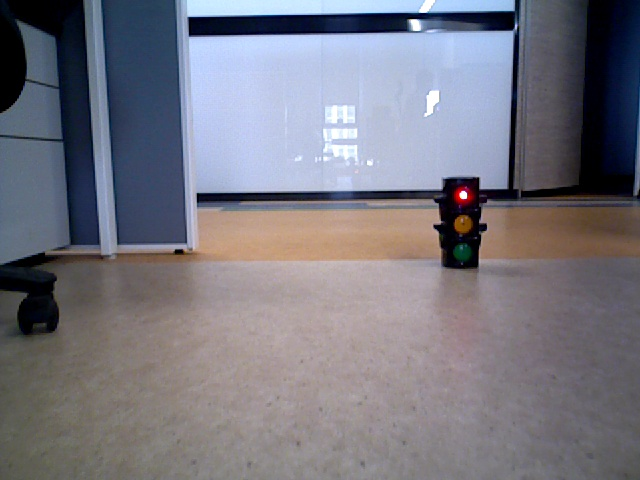red: (439, 178, 476, 263)
